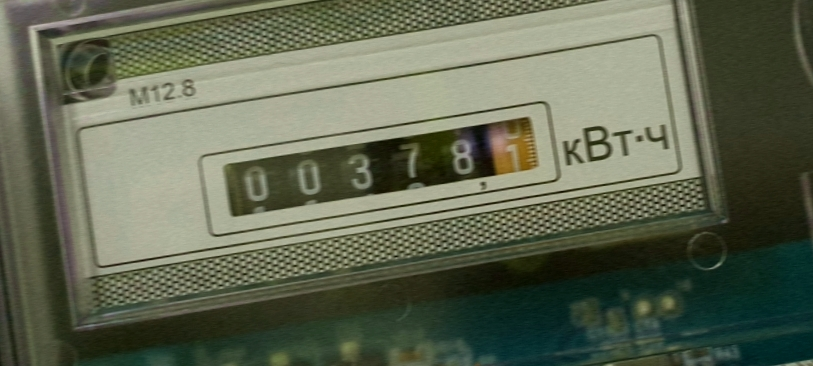0: (242, 160, 273, 203), (294, 154, 323, 196), (500, 116, 524, 140)
1: (502, 139, 525, 173)
3: (345, 148, 376, 192)
7: (397, 138, 425, 179)
8: (448, 134, 477, 176)
screen: (200, 95, 560, 228)
